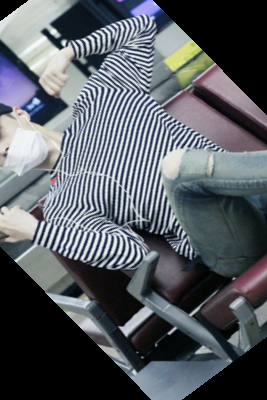mask_weared_incorrect: (1, 98, 47, 182)
